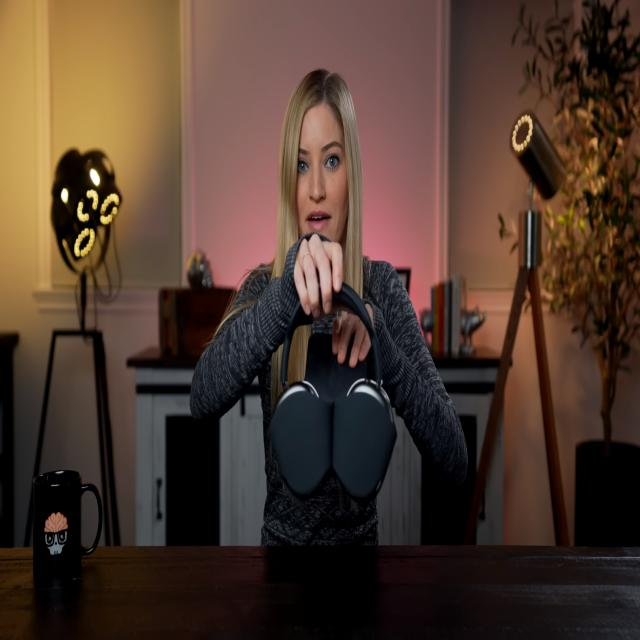Headphone: (266, 276, 399, 510)
